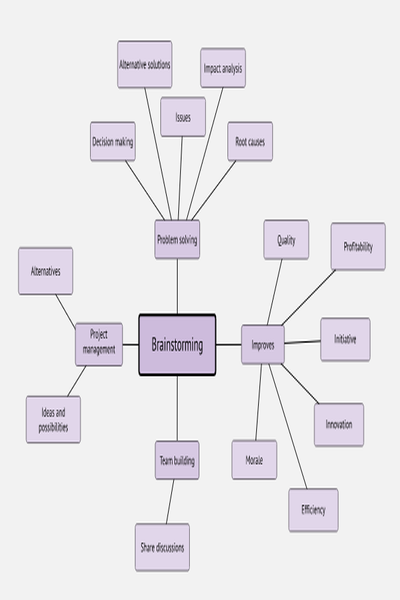arrow: (267, 363, 309, 488), (187, 90, 223, 216), (143, 87, 174, 219), (283, 271, 335, 323), (125, 161, 166, 219), (194, 162, 237, 216), (283, 361, 321, 406), (268, 260, 281, 327), (56, 293, 75, 325), (255, 362, 263, 438), (67, 367, 87, 396), (176, 138, 183, 219), (174, 374, 181, 441), (173, 260, 181, 314), (166, 479, 175, 523), (286, 339, 319, 347), (216, 342, 242, 349), (123, 341, 137, 347)
idea: (137, 312, 218, 377), (16, 245, 74, 297), (330, 221, 387, 271), (24, 395, 81, 444), (116, 39, 173, 88), (134, 523, 191, 571), (318, 317, 372, 363), (313, 401, 364, 449), (287, 487, 340, 533), (73, 321, 123, 366), (159, 95, 206, 138), (199, 47, 248, 88), (153, 219, 202, 259), (89, 120, 134, 163), (264, 219, 310, 261), (240, 324, 286, 366), (155, 439, 201, 481), (230, 439, 277, 480), (227, 121, 273, 162)
